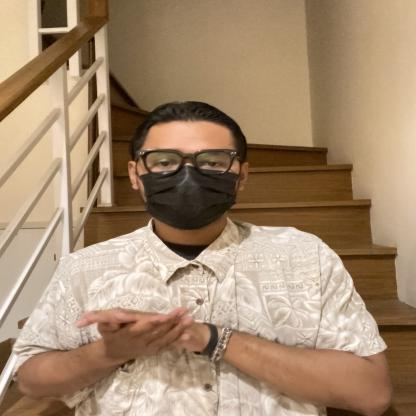Love: (58, 274, 300, 374)
